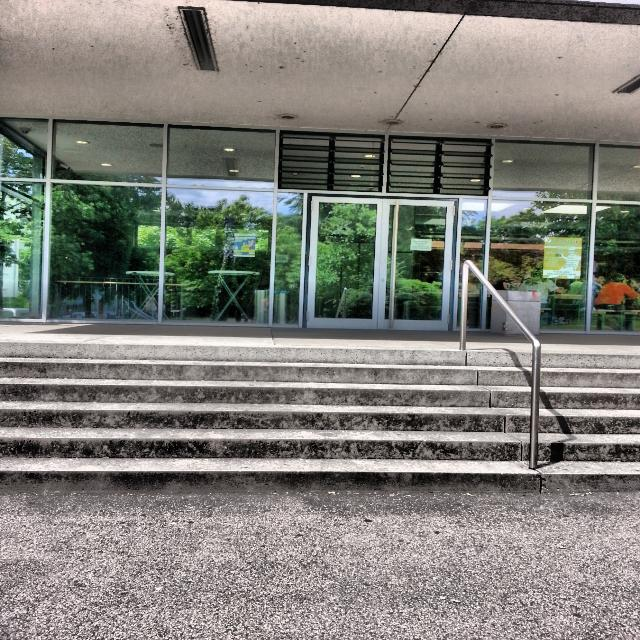escada: (1, 341, 640, 496)
